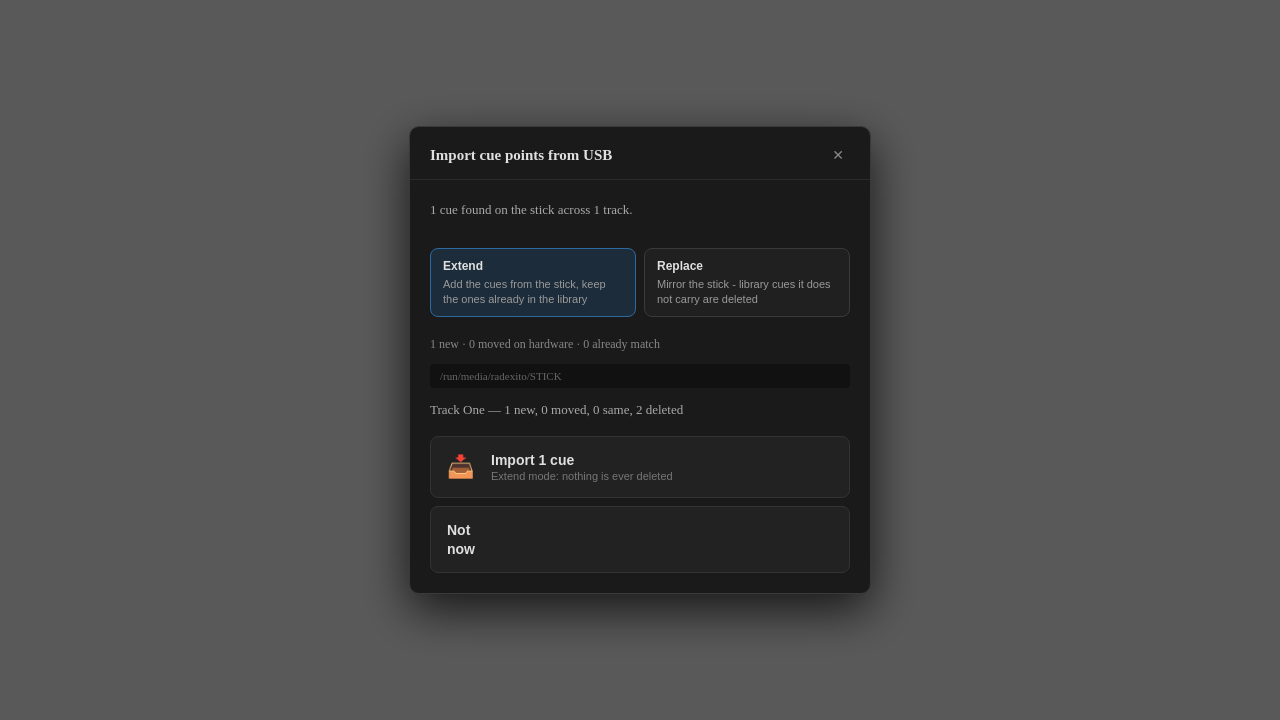
Test: UsbCueImport modes (#518) › passes the chosen mode to the import
The width and height of the screenshot is (1280, 720).
Click the text "Replace": (680, 266) left=657, top=259, right=703, bottom=273
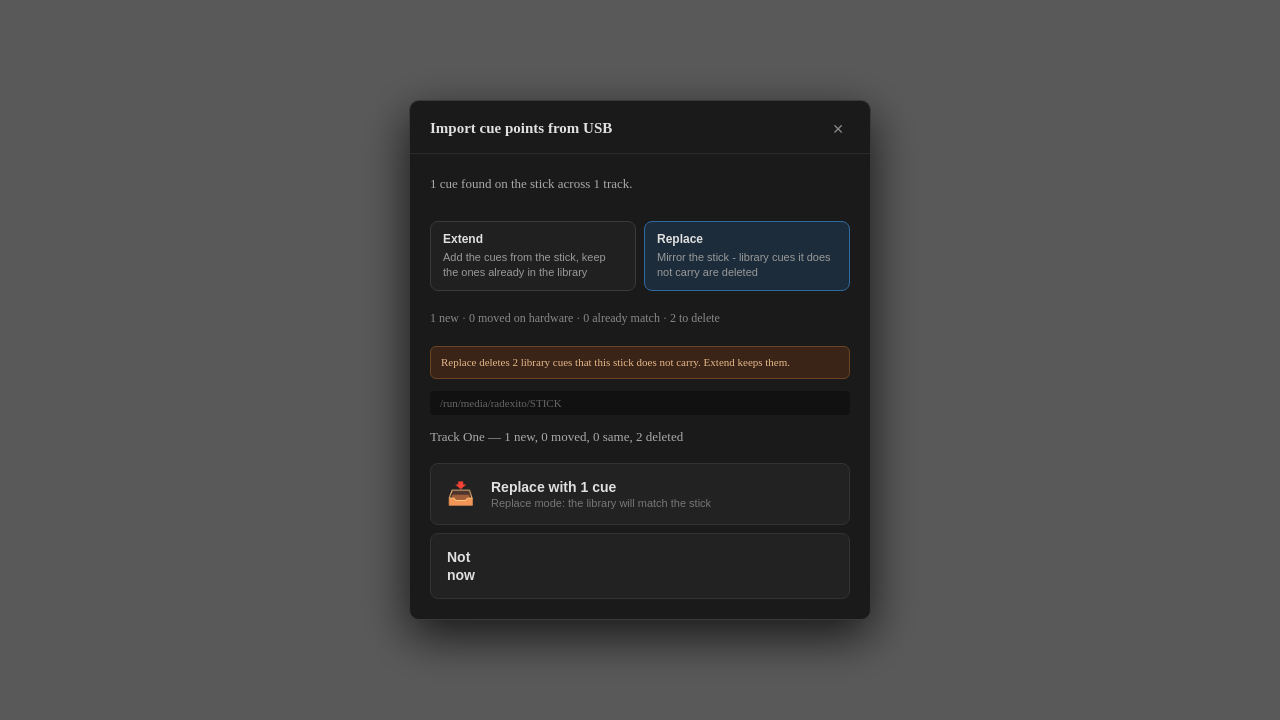
Click the text "Replace with 1 cue": (554, 487) left=491, top=479, right=616, bottom=495
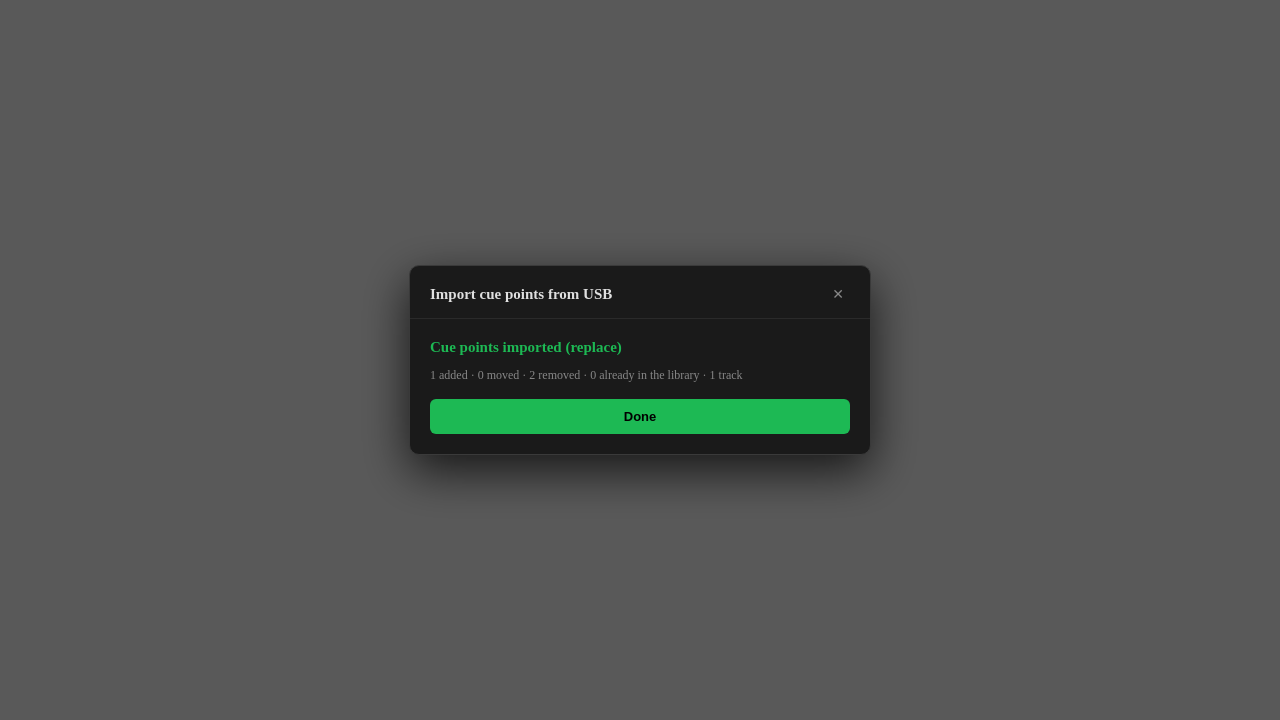
Check: the text "2 removed" is shown, box left=430, top=368, right=743, bottom=382
